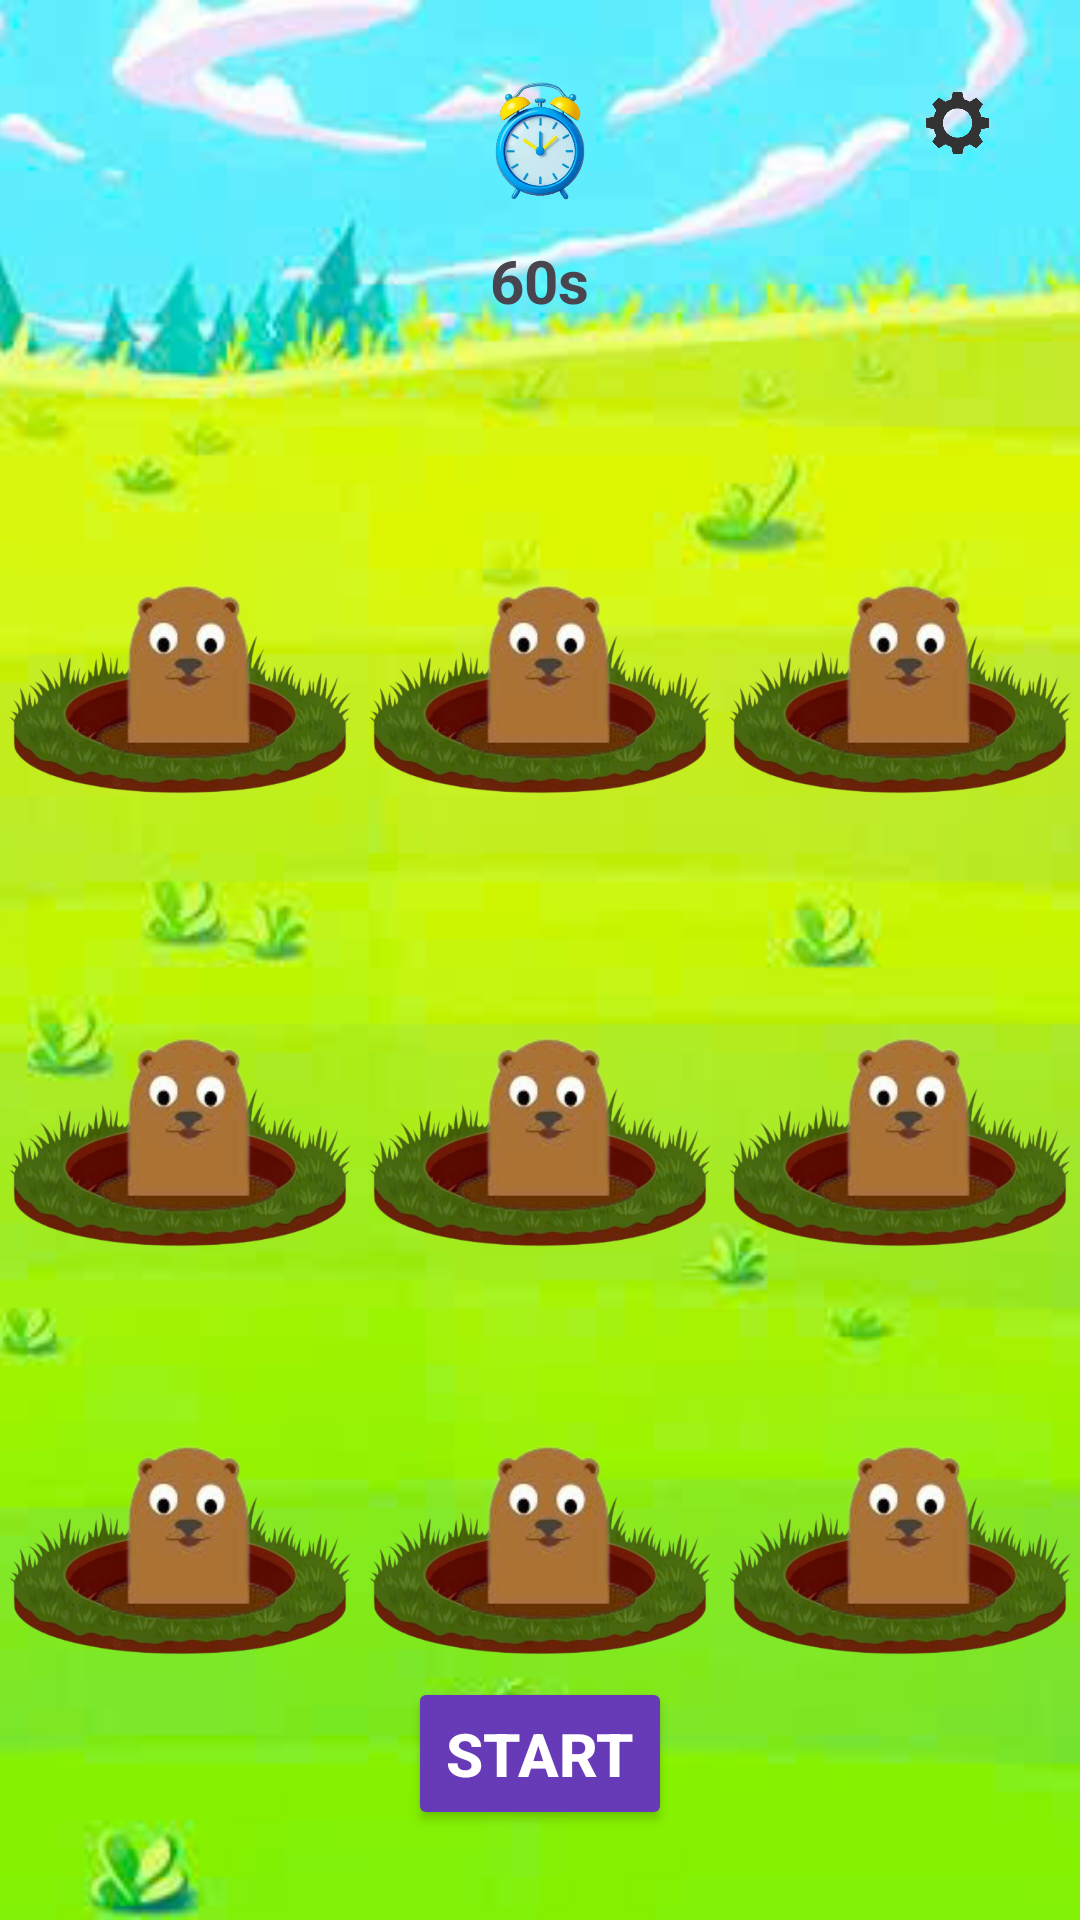

Point at icon controls on the screen. Image size 1080 x 1920, points as (x,y).
clock: (540,145)
